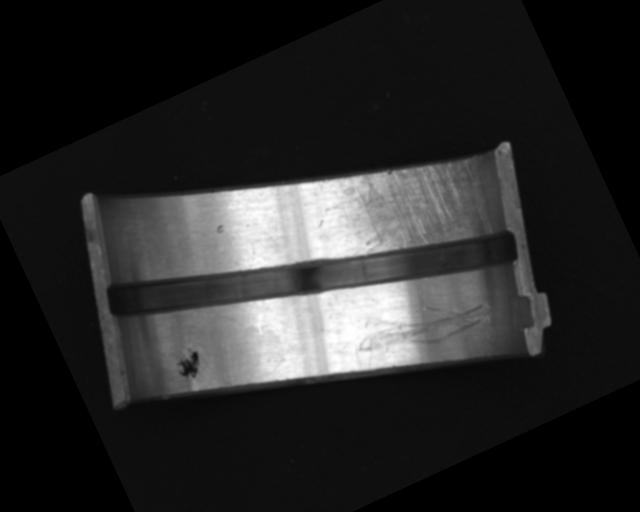blot: (169, 344, 207, 384)
bruise: (213, 222, 228, 237)
gap: (96, 121, 525, 424)
nick: (348, 273, 494, 378)
scratch: (311, 116, 508, 293)
